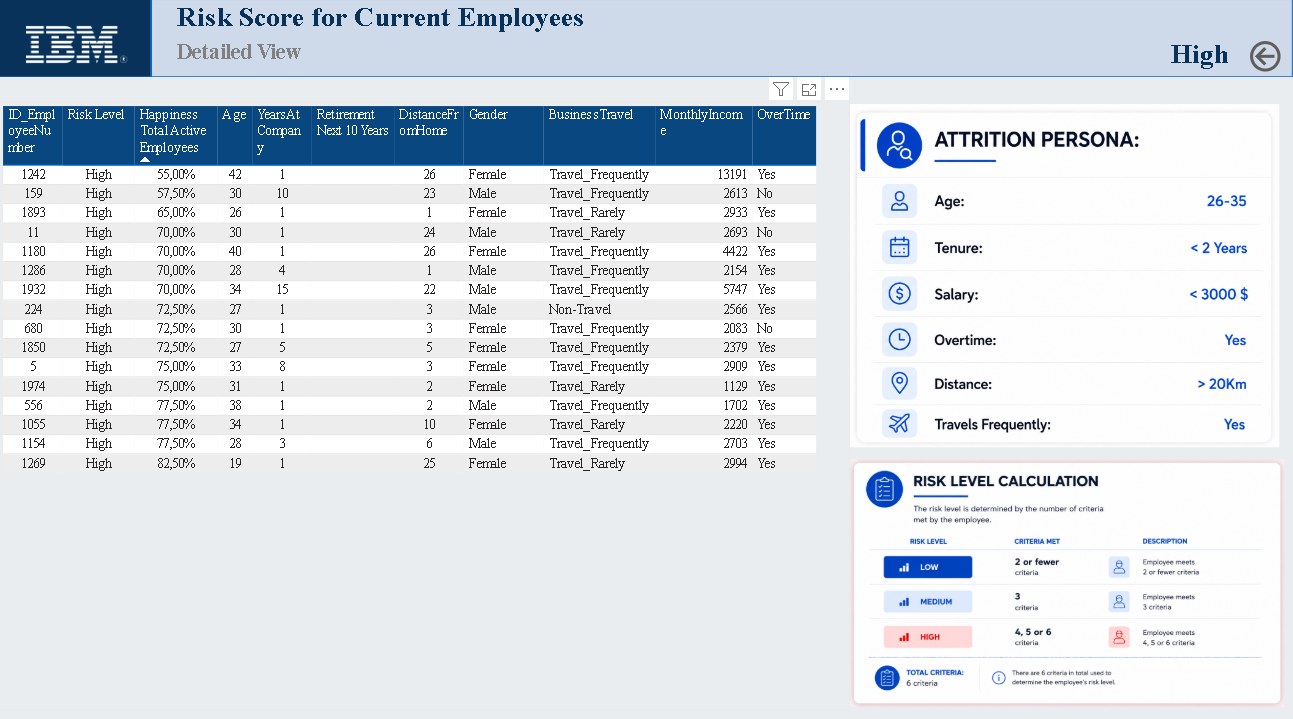

This screenshot's page, from the dashboard's own definition file:
{"tool":"powerbi","page":{"name":"Drill_RiskScore","canvas":[1280,720],"ordinal":4},"visuals":[{"type":"tableEx","fields":{"Values":["F_MovimentoFuncionarios.ID_EmployeeNumber","F_MovimentoFuncionarios.Risk Level","_Medidas.Happiness Total Employees","F_MovimentoFuncionarios.Age","F_MovimentoFuncionarios.YearsAtCompany","F_MovimentoFuncionarios.Retirement Next 10 Years","F_MovimentoFuncionarios.DistanceFromHome","D_Gender.Gender","D_BusinessTravel.BusinessTravel","F_MovimentoFuncionarios.MonthlyIncome","F_MovimentoFuncionarios.OverTime"]},"box":[0,103.4,842.5,602.1],"z":0},{"type":"shape","title":"Detailed View: Risk Score for Current Employees","box":[152.3,0,1127.7,80.3],"z":1000},{"type":"textbox","box":[172.9,0,467.1,51.4],"z":2000},{"type":"shape","box":[0,0,152.3,80.3],"z":3000},{"type":"image","box":[23.1,8,111.7,79.8],"z":4000},{"type":"textbox","box":[172.4,38.8,230.7,37.7],"z":5000},{"type":"image","box":[842.5,456.7,429.1,247.6],"z":6000},{"type":"image","box":[842.4,101.9,428.9,349.1],"z":7000},{"type":"cardVisual","title":"Level of Risk","fields":{"Data":["Min(F_MovimentoFuncionarios.Risk Level)"]},"box":[1079.4,25.7,154.3,54.5],"z":8000},{"type":"actionButton","box":[1232.7,39.1,44.2,40.1],"z":9000}]}

Visuals, with their boxes in screenshot pixels (x1, y1, x2, y2), scaled from the page's 1280x720 canvas onto the 1293x719 screenshot:
tableEx - F_MovimentoFuncionarios.ID_EmployeeNumber x F_MovimentoFuncionarios.Risk Level: bbox=(0, 103, 851, 705)
"Detailed View: Risk Score for Current Employees" shape: bbox=(154, 0, 1292, 80)
textbox: bbox=(175, 0, 646, 51)
shape: bbox=(0, 0, 154, 80)
image: bbox=(23, 8, 136, 88)
textbox: bbox=(174, 39, 407, 76)
image: bbox=(851, 456, 1285, 703)
image: bbox=(851, 102, 1284, 450)
"Level of Risk" cardVisual: bbox=(1090, 26, 1246, 80)
actionButton: bbox=(1245, 39, 1290, 79)
